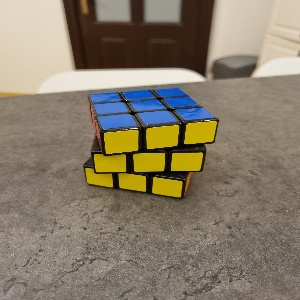cube: (84, 88, 219, 201)
